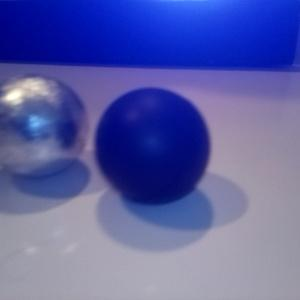alive_ball: (1, 72, 90, 180)
dead_ball: (95, 88, 213, 207)
